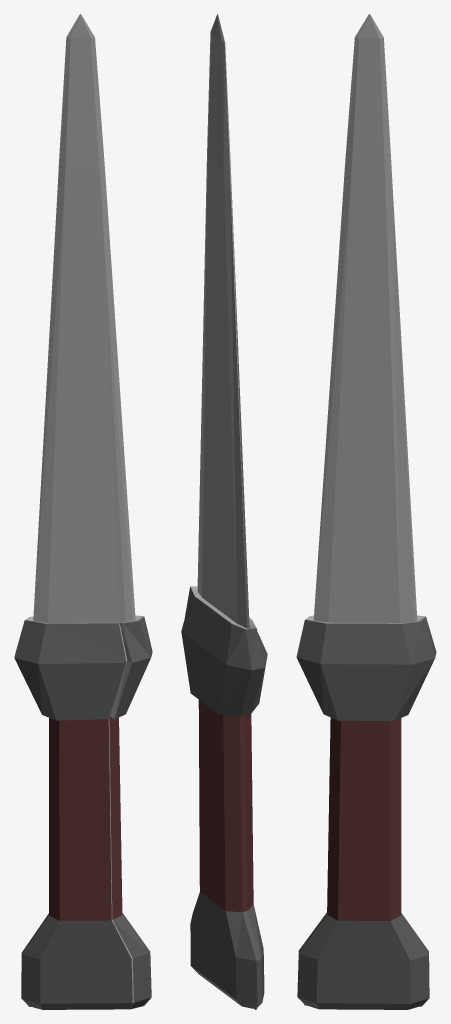
Rendered from sword.fbx.
The picture shows the model from 3 angles, left to right: view 1: azimuth 90°, elevation 25°; view 2: azimuth 210°, elevation 25°; view 3: azimuth 270°, elevation 25°; orthographic projection.
Parts seen in each view (by area): view 1: pCube1; view 2: pCube1; view 3: pCube1.
Part boxes in pixels (left/top/right/bottom): pCube1: left=14, top=14, right=152, bottom=1009; pCube1: left=181, top=14, right=267, bottom=1009; pCube1: left=296, top=14, right=436, bottom=1009.
Bounding box in the file's own units: 0.109 × 2.43 × 0.3087.
